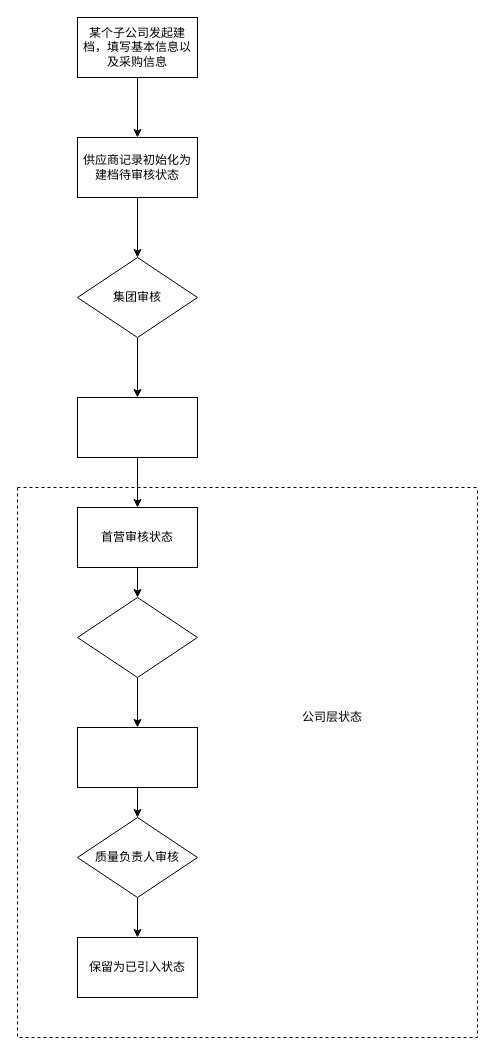
Some shapes in this 495 by 1055 pixel diagram are drawn without their labels. The shapes that lost their labels are listed below. From the top down, each one's centre as x and y in pixels, then its label:
At pixel 137 427: "供应商记录流转为已核准状态".
At pixel 137 637: "子公司质管部审核".
At pixel 137 757: "质量负责人审核状态".
